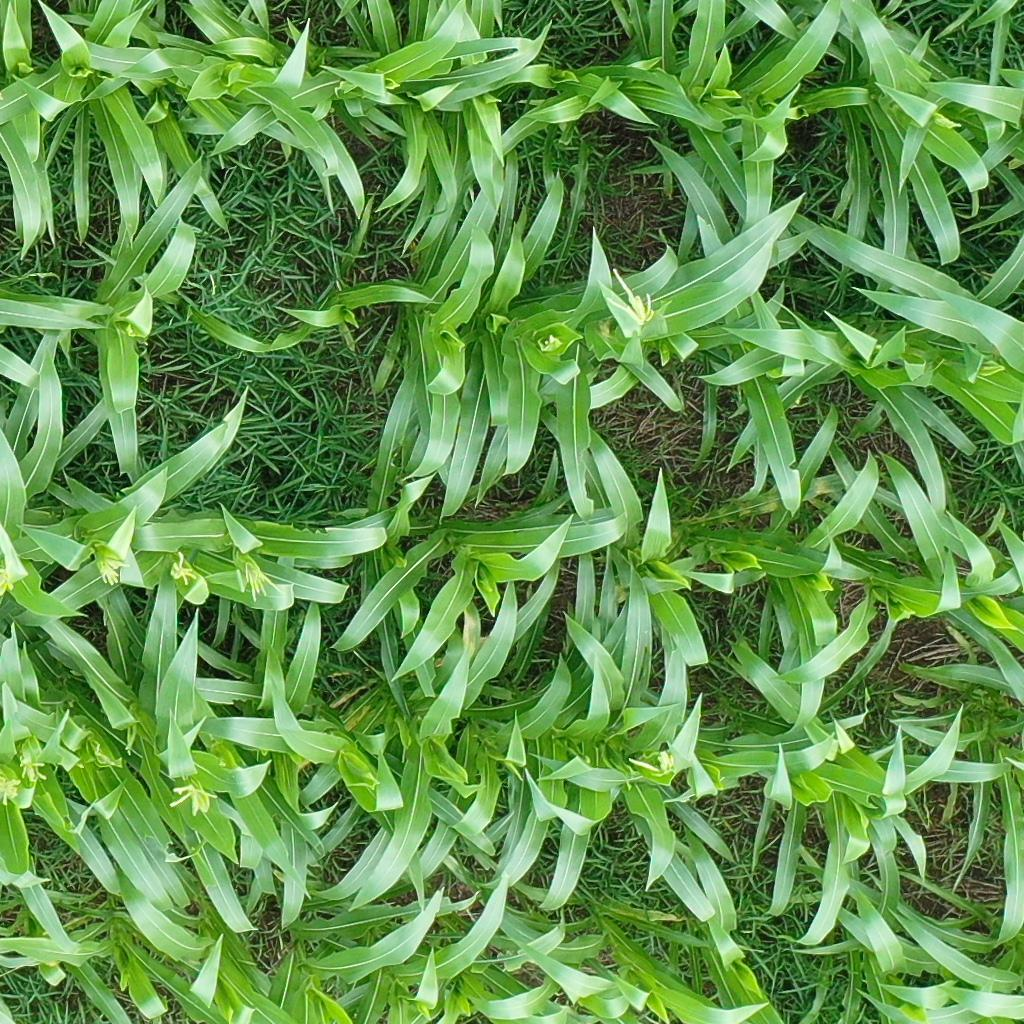Tassel: (596, 266, 655, 322), (235, 558, 284, 605), (170, 779, 217, 816), (626, 748, 674, 778), (92, 553, 130, 590), (167, 548, 197, 586), (15, 754, 50, 779), (929, 111, 964, 131), (1, 778, 22, 808), (1, 566, 17, 595)
